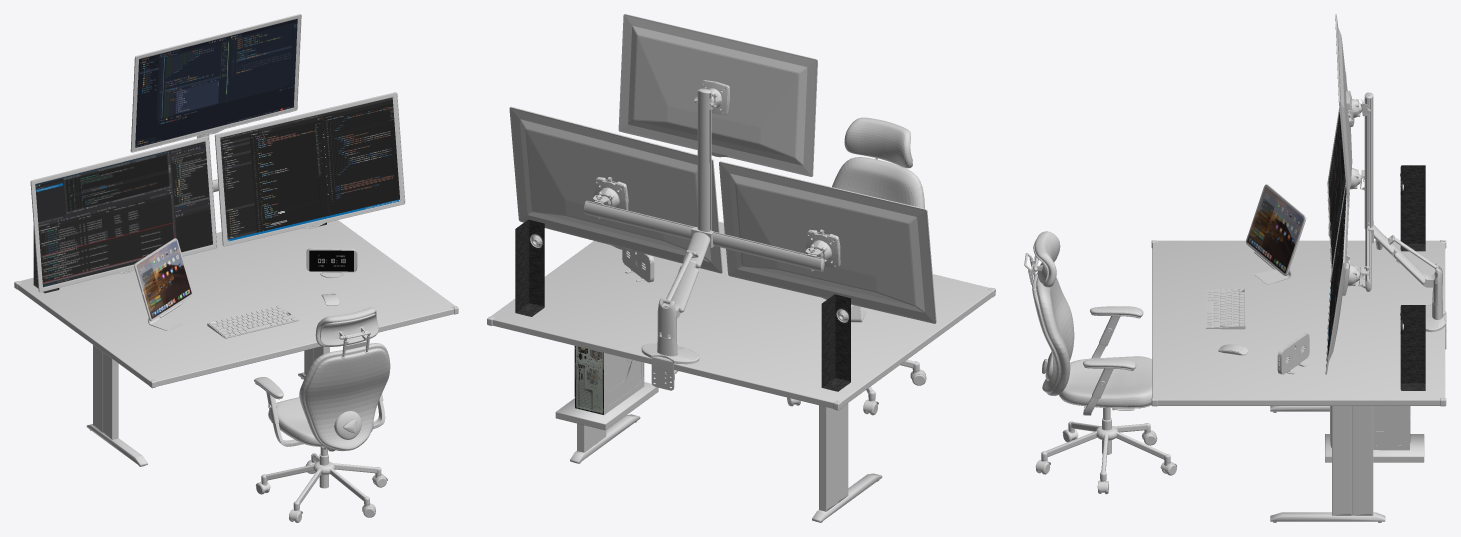
File: office_setup-transformed.glb
3 views of the same model, side by side, from view 1: azimuth 30°, elevation 25°; view 2: azimuth 150°, elevation 25°; view 3: azimuth 270°, elevation 25° (orthographic). The views are drawn at different scales.
Visible parts, largest first — view 1: wood adler, Mat.4_3, Mat.9, Mat.4_2, Mat.6_2, Mat.10; view 2: wood adler, Plastic, Mat.7; view 3: wood adler, Plastic, Mat.6_2, Mat.9, Mat.4_3.
Part boxes in pixels (x1,y1,x2,y2): wood adler: (14, 14, 458, 522); Mat.4_3: (220, 97, 400, 241); Mat.9: (35, 141, 212, 287); Mat.4_2: (135, 19, 297, 147); Mat.6_2: (136, 240, 191, 318); Mat.10: (309, 250, 353, 271); wood adler: (487, 14, 995, 522); Plastic: (515, 219, 850, 391); Mat.7: (574, 346, 603, 414); wood adler: (1024, 14, 1446, 522); Plastic: (1400, 165, 1425, 390); Mat.6_2: (1247, 187, 1303, 273); Mat.9: (1328, 112, 1345, 267); Mat.4_3: (1327, 187, 1346, 362).
Bounding box in the file's own units: 191 × 192 × 179.
12 materials, 11 textured.
